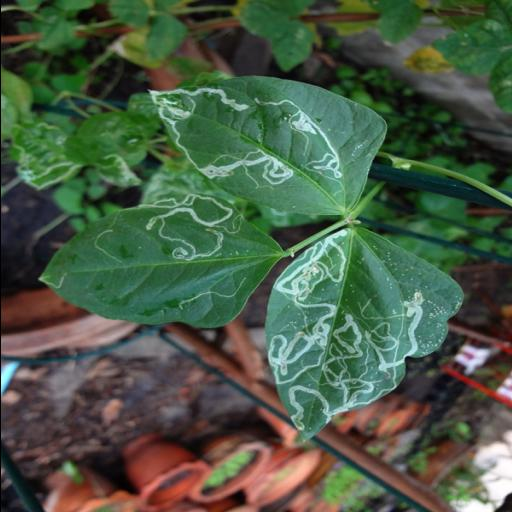Leaf Miner: (264, 226, 465, 436), (142, 75, 386, 217), (38, 194, 278, 328)
